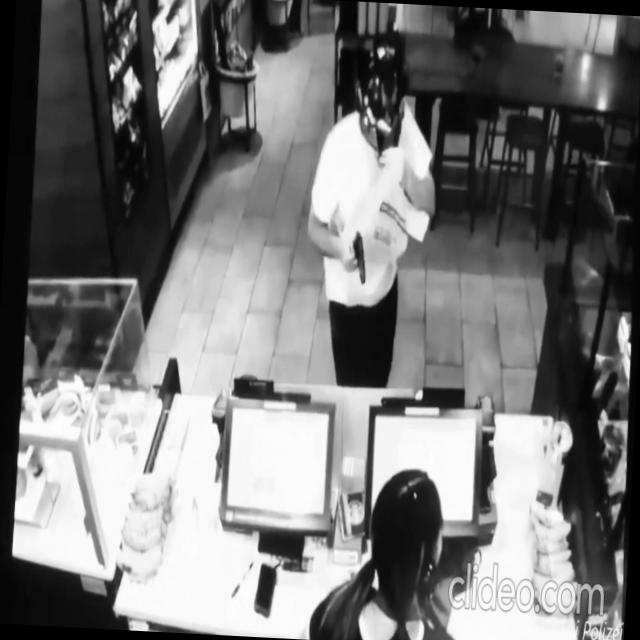gun: (347, 227, 372, 288)
person: (292, 458, 473, 640)
person with a gun: (298, 42, 446, 389)
